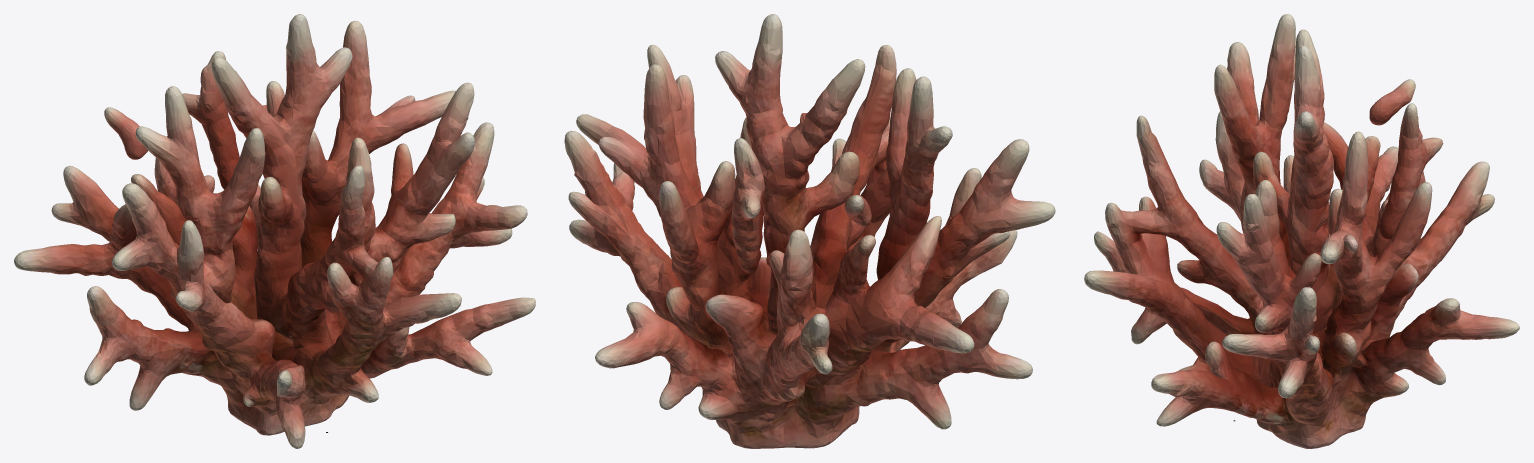
Rendered from coral.glb.
The picture shows the model from 3 angles, left to right: view 1: azimuth 30°, elevation 25°; view 2: azimuth 150°, elevation 25°; view 3: azimuth 270°, elevation 25°; orthographic projection. The views are drawn at different scales.
Parts seen in each view (by area): view 1: geometry_0; view 2: geometry_0; view 3: geometry_0.
Boxes of the visible parts, left/top/right/bottom form: geometry_0: left=14, top=14, right=535, bottom=448; geometry_0: left=564, top=14, right=1055, bottom=448; geometry_0: left=1084, top=14, right=1519, bottom=448.
Bounding box in the file's own units: 0.9993 × 0.853 × 0.882.
Materials: 1 (1 with a texture image).
